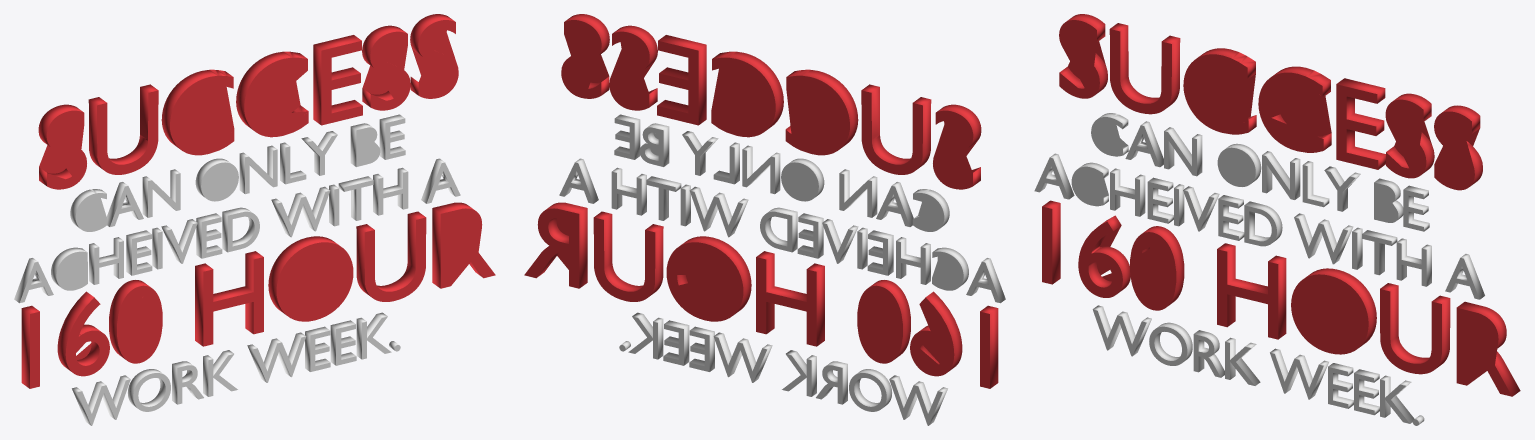
File: SuccessCanOnlyBeAcheived.fbx
3 renders of one model, left to right at view 1: azimuth 30°, elevation 25°; view 2: azimuth 150°, elevation 25°; view 3: azimuth 330°, elevation 25°, orthographic.
Parts seen in each view (by area): view 1: Success, Work Week; view 2: Success, Work Week; view 3: Success, Work Week.
Part boxes in pixels (x1=…): Success: x1=21, y1=14, x2=495, y2=388; Work Week: x1=14, y1=114, x2=460, y2=425; Success: x1=524, y1=14, x2=998, y2=388; Work Week: x1=559, y1=114, x2=1005, y2=425; Success: x1=1042, y1=14, x2=1520, y2=396; Work Week: x1=1034, y1=113, x2=1484, y2=425.
Size of the model in its own units: 674 by 436 by 20.
